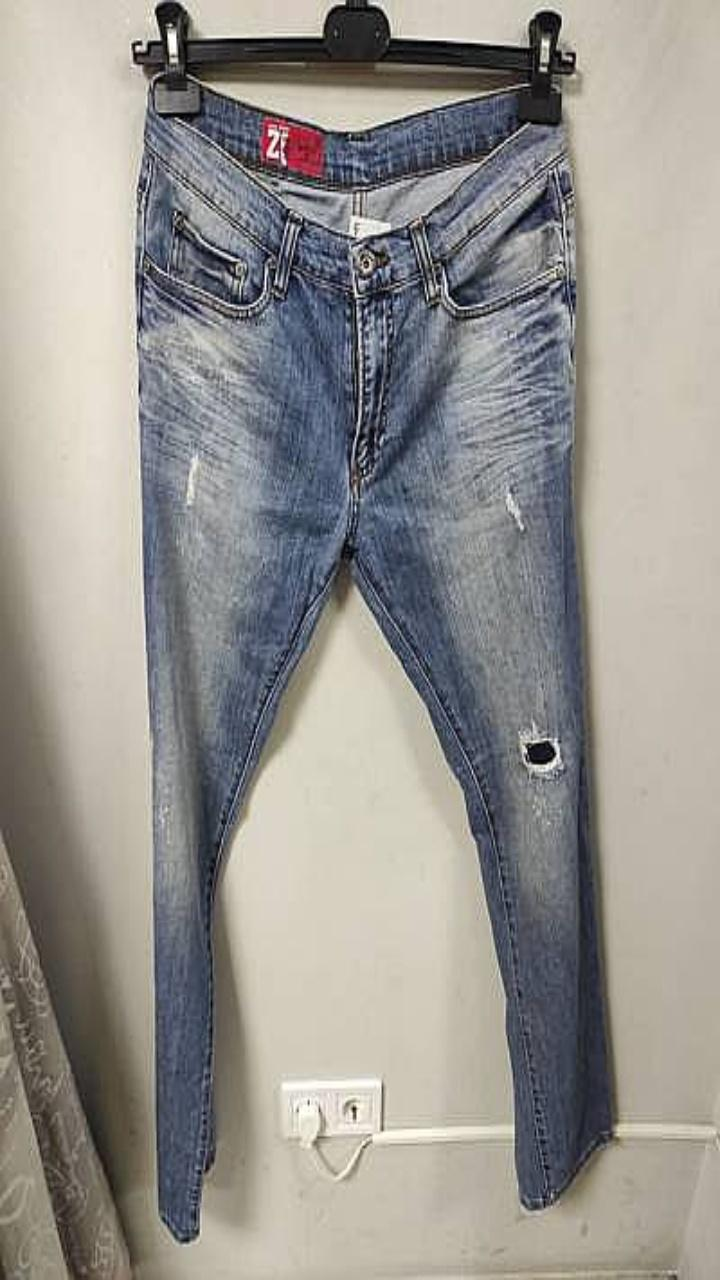Jeans: (135, 81, 611, 1241)
